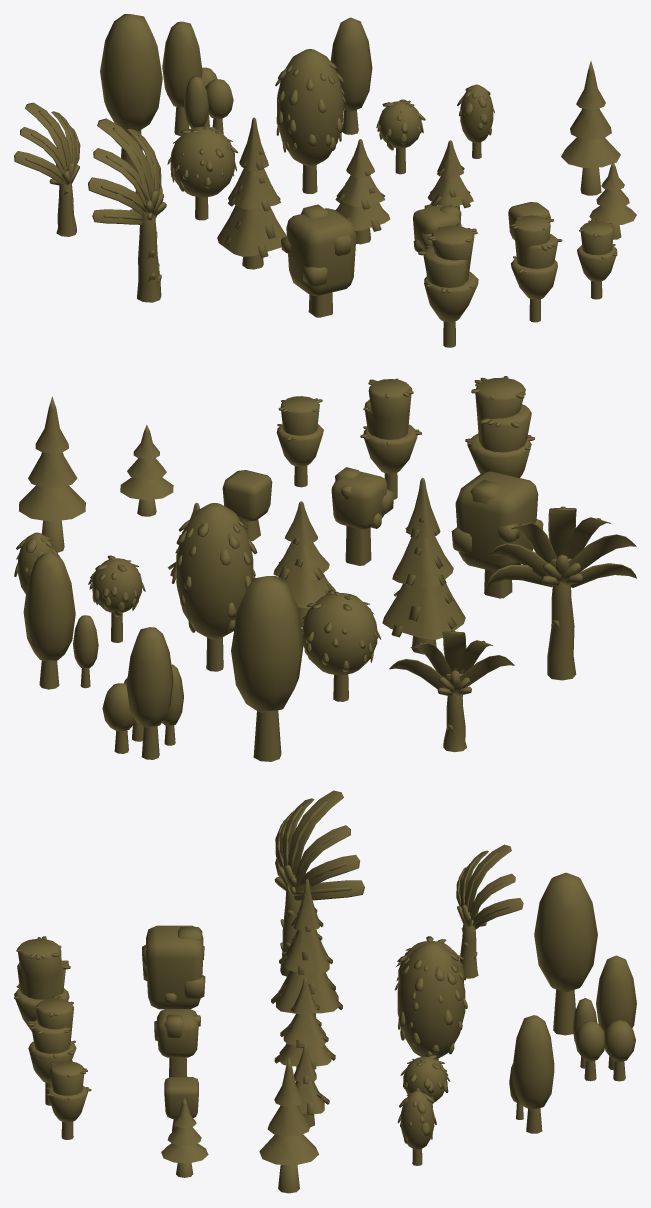
The model's file is SM_trees.obj.
3 renders of one model, top to bottom at view 1: azimuth 30°, elevation 25°; view 2: azimuth 150°, elevation 25°; view 3: azimuth 270°, elevation 25°, orthographic. The views are drawn at different scales.
Visible parts, largest first — view 1: SM_tree14, SM_tree20, SM_tree12, SM_tree4, SM_tree8, SM_tree10, SM_tree1, SM_tree13, SM_tree19, SM_tree18, SM_tree2, SM_tree11 (+8 smaller); view 2: SM_tree20, SM_tree12, SM_tree14, SM_tree8, SM_tree4, SM_tree10, SM_tree11, SM_tree13, SM_tree1, SM_tree19, SM_tree18, SM_tree2 (+7 smaller); view 3: SM_tree12, SM_tree14, SM_tree20, SM_tree10, SM_tree4, SM_tree8, SM_tree11, SM_tree19, SM_tree18, SM_tree1, SM_tree2, SM_tree9 (+7 smaller).
Part boxes in pixels (left/top/right/bottom): SM_tree14: left=275, top=49, right=346, bottom=193; SM_tree20: left=88, top=118, right=166, bottom=302; SM_tree12: left=100, top=14, right=162, bottom=170; SM_tree4: left=281, top=204, right=356, bottom=317; SM_tree8: left=217, top=117, right=286, bottom=269; SM_tree10: left=162, top=21, right=233, bottom=135; SM_tree1: left=418, top=223, right=478, bottom=347; SM_tree13: left=167, top=125, right=238, bottom=220; SM_tree19: left=14, top=102, right=80, bottom=236; SM_tree18: left=561, top=61, right=620, bottom=195; SM_tree2: left=511, top=215, right=562, bottom=322; SM_tree11: left=330, top=17, right=372, bottom=134; SM_tree20: left=485, top=506, right=636, bottom=680; SM_tree12: left=231, top=576, right=303, bottom=761; SM_tree14: left=171, top=503, right=257, bottom=671; SM_tree8: left=382, top=478, right=465, bottom=654; SM_tree4: left=451, top=471, right=543, bottom=598; SM_tree10: left=102, top=627, right=183, bottom=759; SM_tree11: left=23, top=552, right=98, bottom=689; SM_tree13: left=301, top=590, right=380, bottom=701; SM_tree1: left=465, top=376, right=534, bottom=477; SM_tree19: left=389, top=630, right=514, bottom=752; SM_tree18: left=19, top=396, right=85, bottom=552; SM_tree2: left=360, top=378, right=421, bottom=499; SM_tree12: left=534, top=872, right=597, bottom=1035; SM_tree14: left=394, top=942, right=467, bottom=1060; SM_tree20: left=274, top=790, right=364, bottom=976; SM_tree10: left=572, top=955, right=636, bottom=1081; SM_tree4: left=142, top=925, right=205, bottom=1009; SM_tree8: left=271, top=879, right=342, bottom=1017; SM_tree11: left=509, top=1015, right=554, bottom=1133; SM_tree19: left=456, top=844, right=523, bottom=978; SM_tree18: left=259, top=1057, right=318, bottom=1193; SM_tree1: left=14, top=936, right=70, bottom=1031; SM_tree2: left=26, top=996, right=76, bottom=1105; SM_tree9: left=274, top=978, right=335, bottom=1081.
Bounding box in the file's own units: 163 × 48.75 × 165.
